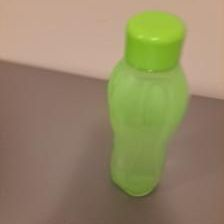bottle: (103, 13, 193, 198)
